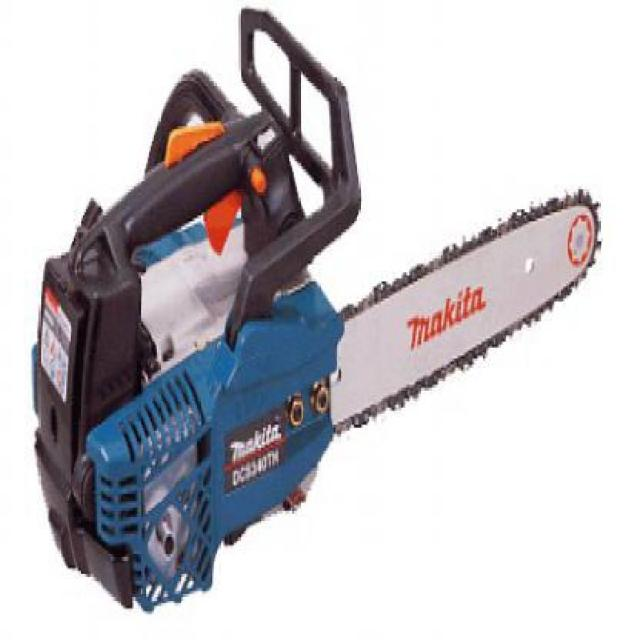Chainsaw: (30, 11, 608, 614)
